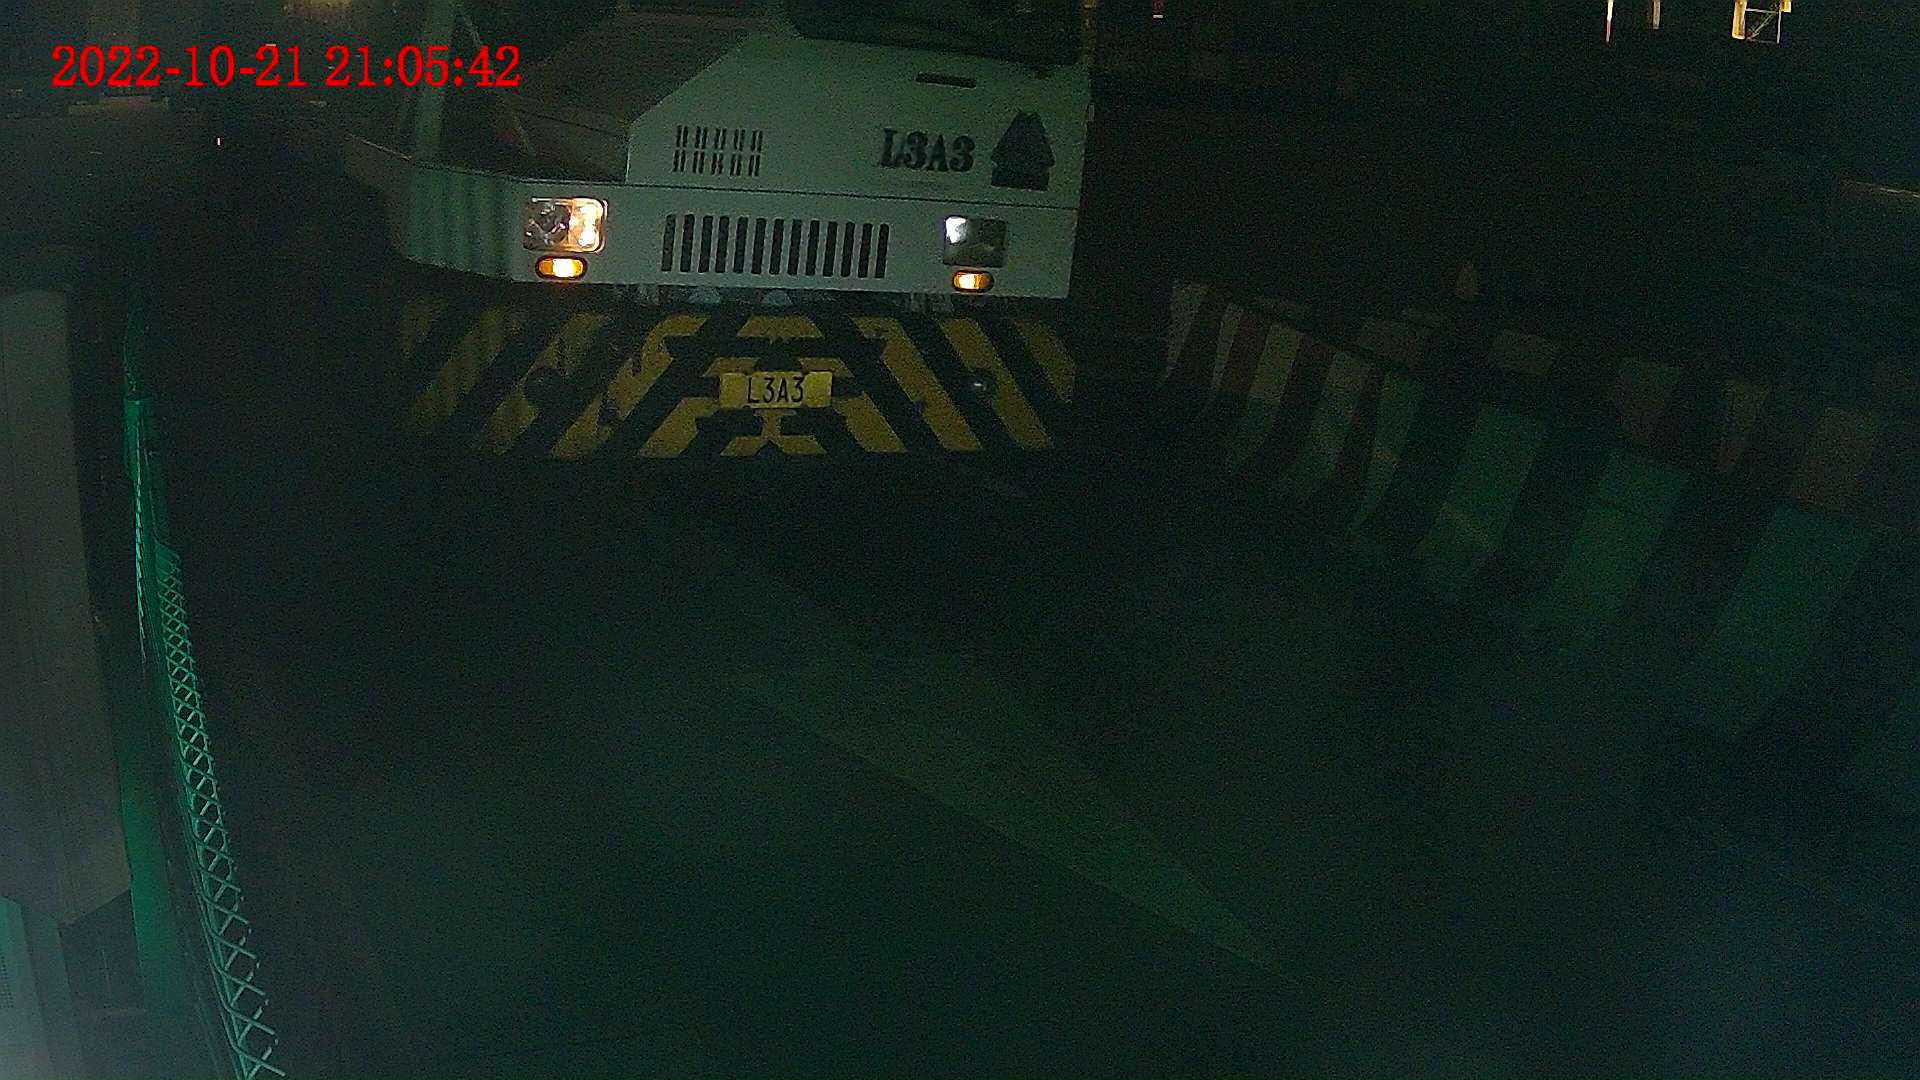head: (306, 1, 1095, 503)
plate: (726, 365, 829, 411)
